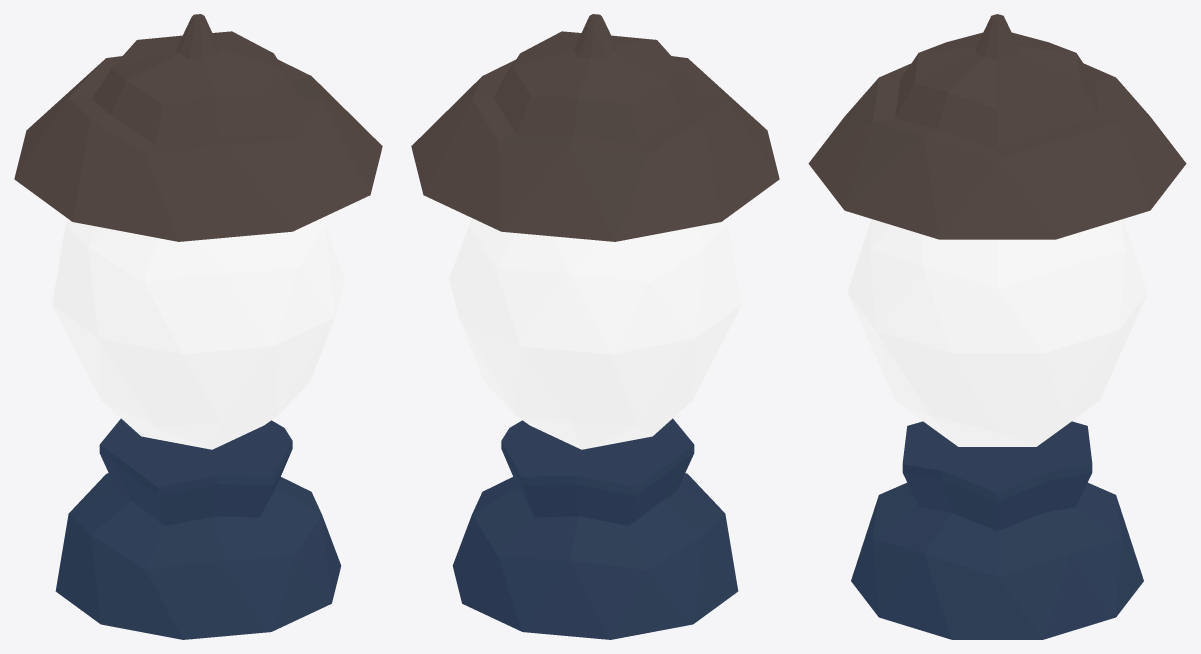
Rendered from oilllamp.glb.
3 views of the same model, side by side, from view 1: azimuth 30°, elevation 25°; view 2: azimuth 150°, elevation 25°; view 3: azimuth 270°, elevation 25° (orthographic).
Parts seen in each view (by area): view 1: lampe; view 2: lampe; view 3: lampe.
Part boxes in pixels (x1=…): lampe: x1=14, y1=14, x2=382, y2=639; lampe: x1=411, y1=14, x2=779, y2=639; lampe: x1=808, y1=14, x2=1186, y2=639.
Bounding box in the file's own units: 2.45 × 4.25 × 2.58.
